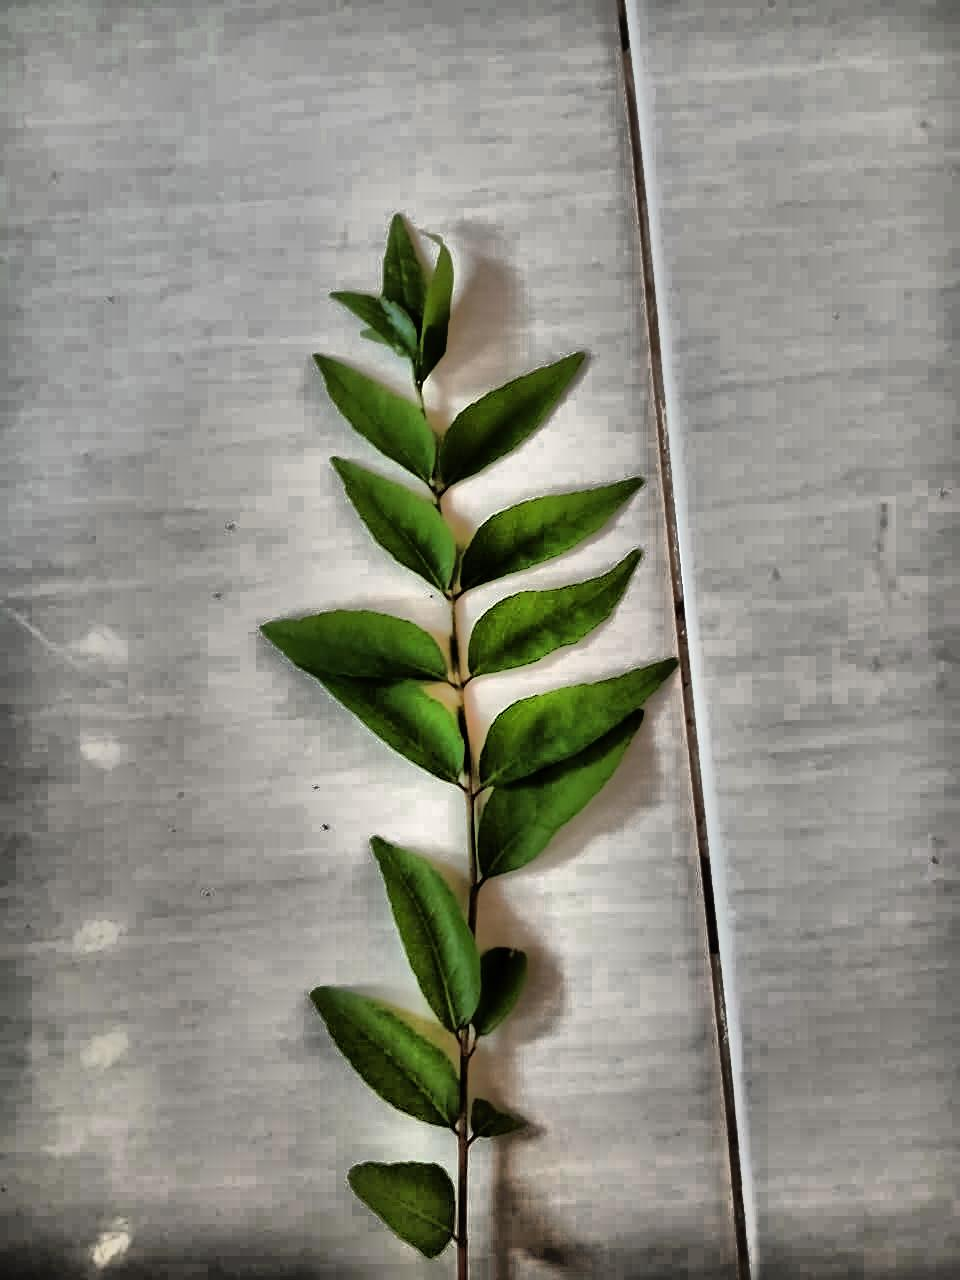daun kari: (261, 225, 676, 1279)
